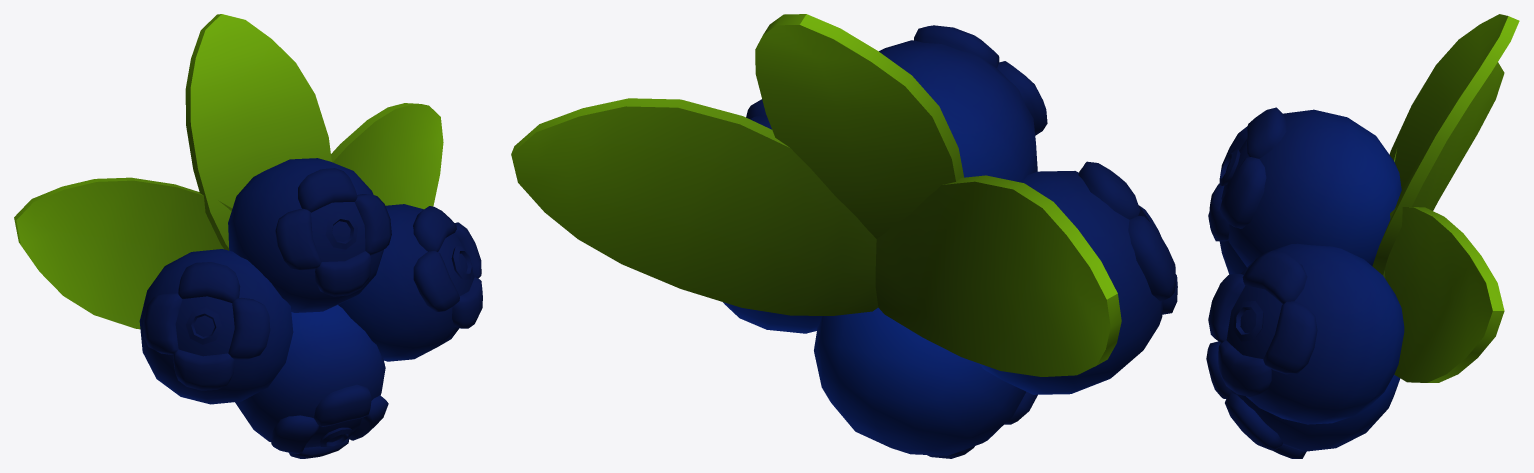
File: Farm_Crop_Blueberry_01.fbx
3 views of the same model, side by side, from view 1: azimuth 30°, elevation 25°; view 2: azimuth 150°, elevation 25°; view 3: azimuth 270°, elevation 25° (orthographic). The views are drawn at different scales.
Parts seen in each view (by area): view 1: Farm_Crop_Blueberry_01; view 2: Farm_Crop_Blueberry_01; view 3: Farm_Crop_Blueberry_01.
Boxes of the visible parts, <box> form: Farm_Crop_Blueberry_01: <box>14,14,482,458</box>; Farm_Crop_Blueberry_01: <box>511,14,1177,458</box>; Farm_Crop_Blueberry_01: <box>1206,14,1519,458</box>.
Size of the model in its own units: 60.83 by 51.44 by 33.39.
